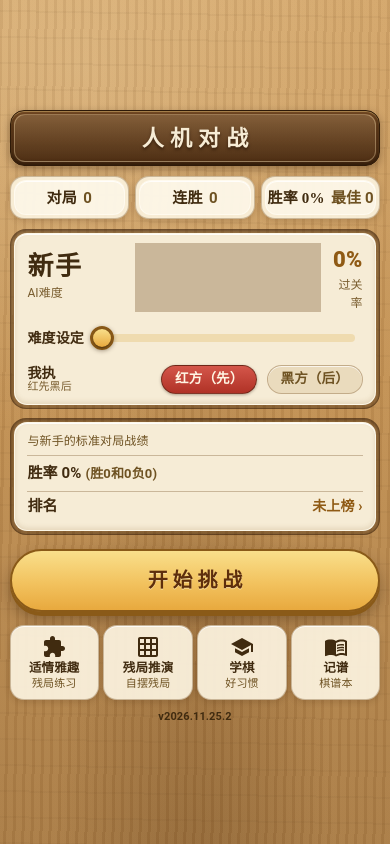
Test: SetupPage (v1.11 landing screen) › 开始挑战 with red starts a fresh match and routes to the match page
Click the button "开始挑战". click: click(195, 581)
box: left=10, top=549, right=380, bottom=612
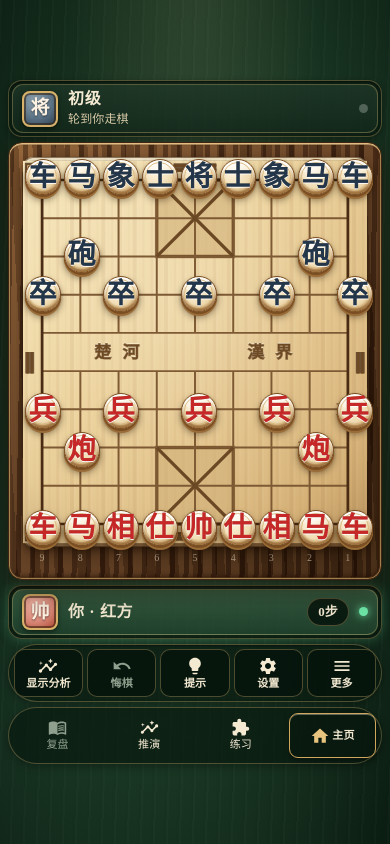
Check: the button "开始挑战" is gone
Check: the text "你 · 红方" is shown, box left=68, top=603, right=133, bottom=620
Check: the icon "楚 河 楚 河 漢 界 漢 界" is shown, box left=23, top=157, right=367, bottom=547
